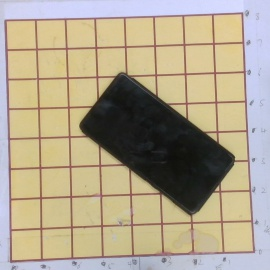phone: (77, 70, 236, 214)
